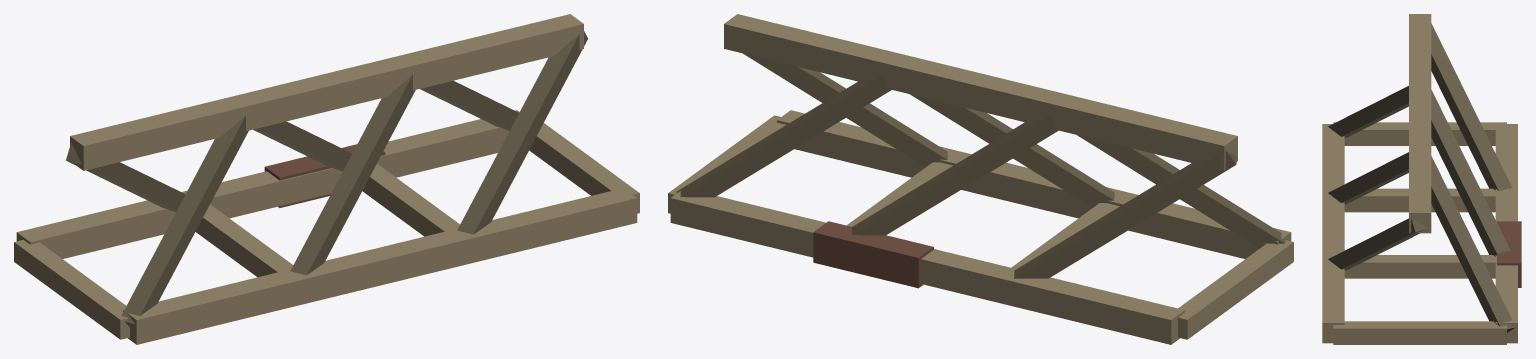
Rendered from ancient_crane_arm.obj.
3 renders of one model, left to right at view 1: azimuth 30°, elevation 25°; view 2: azimuth 150°, elevation 25°; view 3: azimuth 270°, elevation 25°, orthographic. The views are drawn at different scales.
Parts seen in each view (by area): view 1: ancient_crane_arm; view 2: ancient_crane_arm; view 3: ancient_crane_arm.
Boxes of the visible parts, x1,y1,x2,y2 form: ancient_crane_arm: [14, 14, 639, 344]; ancient_crane_arm: [668, 14, 1293, 344]; ancient_crane_arm: [1322, 14, 1521, 344].
Bounding box in the file's own units: 1.97 × 0.59 × 0.805.
